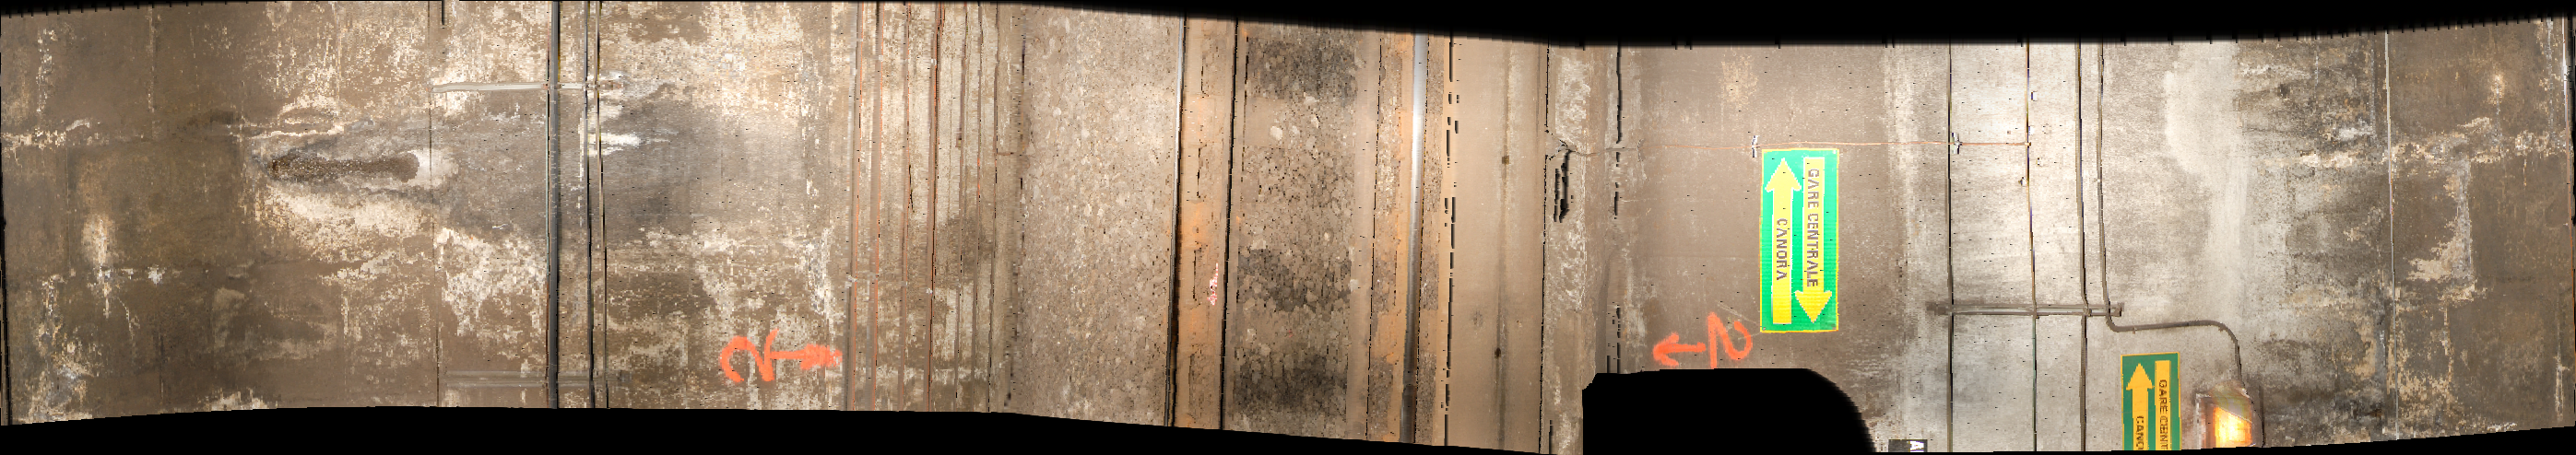light: (2198, 393, 2269, 455)
pipes: (831, 2, 1035, 430), (540, 5, 611, 453), (2068, 62, 2113, 455), (1927, 49, 1970, 455), (2016, 56, 2052, 455)
sign: (1758, 146, 1842, 343), (2121, 350, 2183, 455)
tracks: (1171, 16, 1549, 453)
